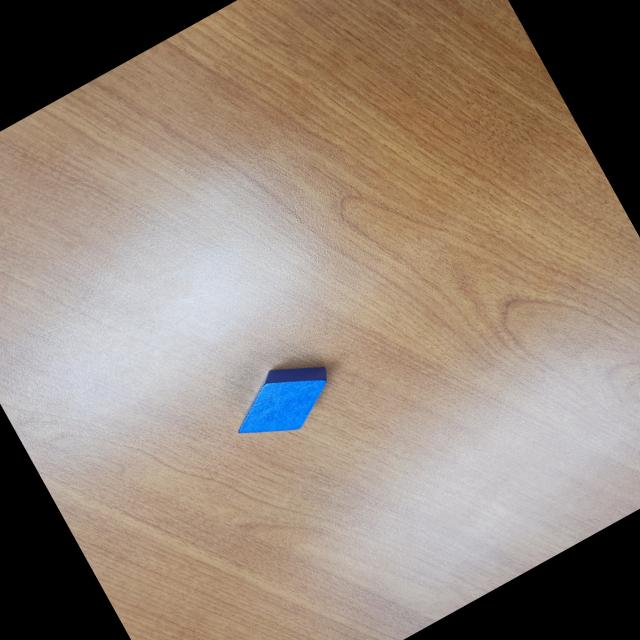blue: (219, 346, 347, 457)
